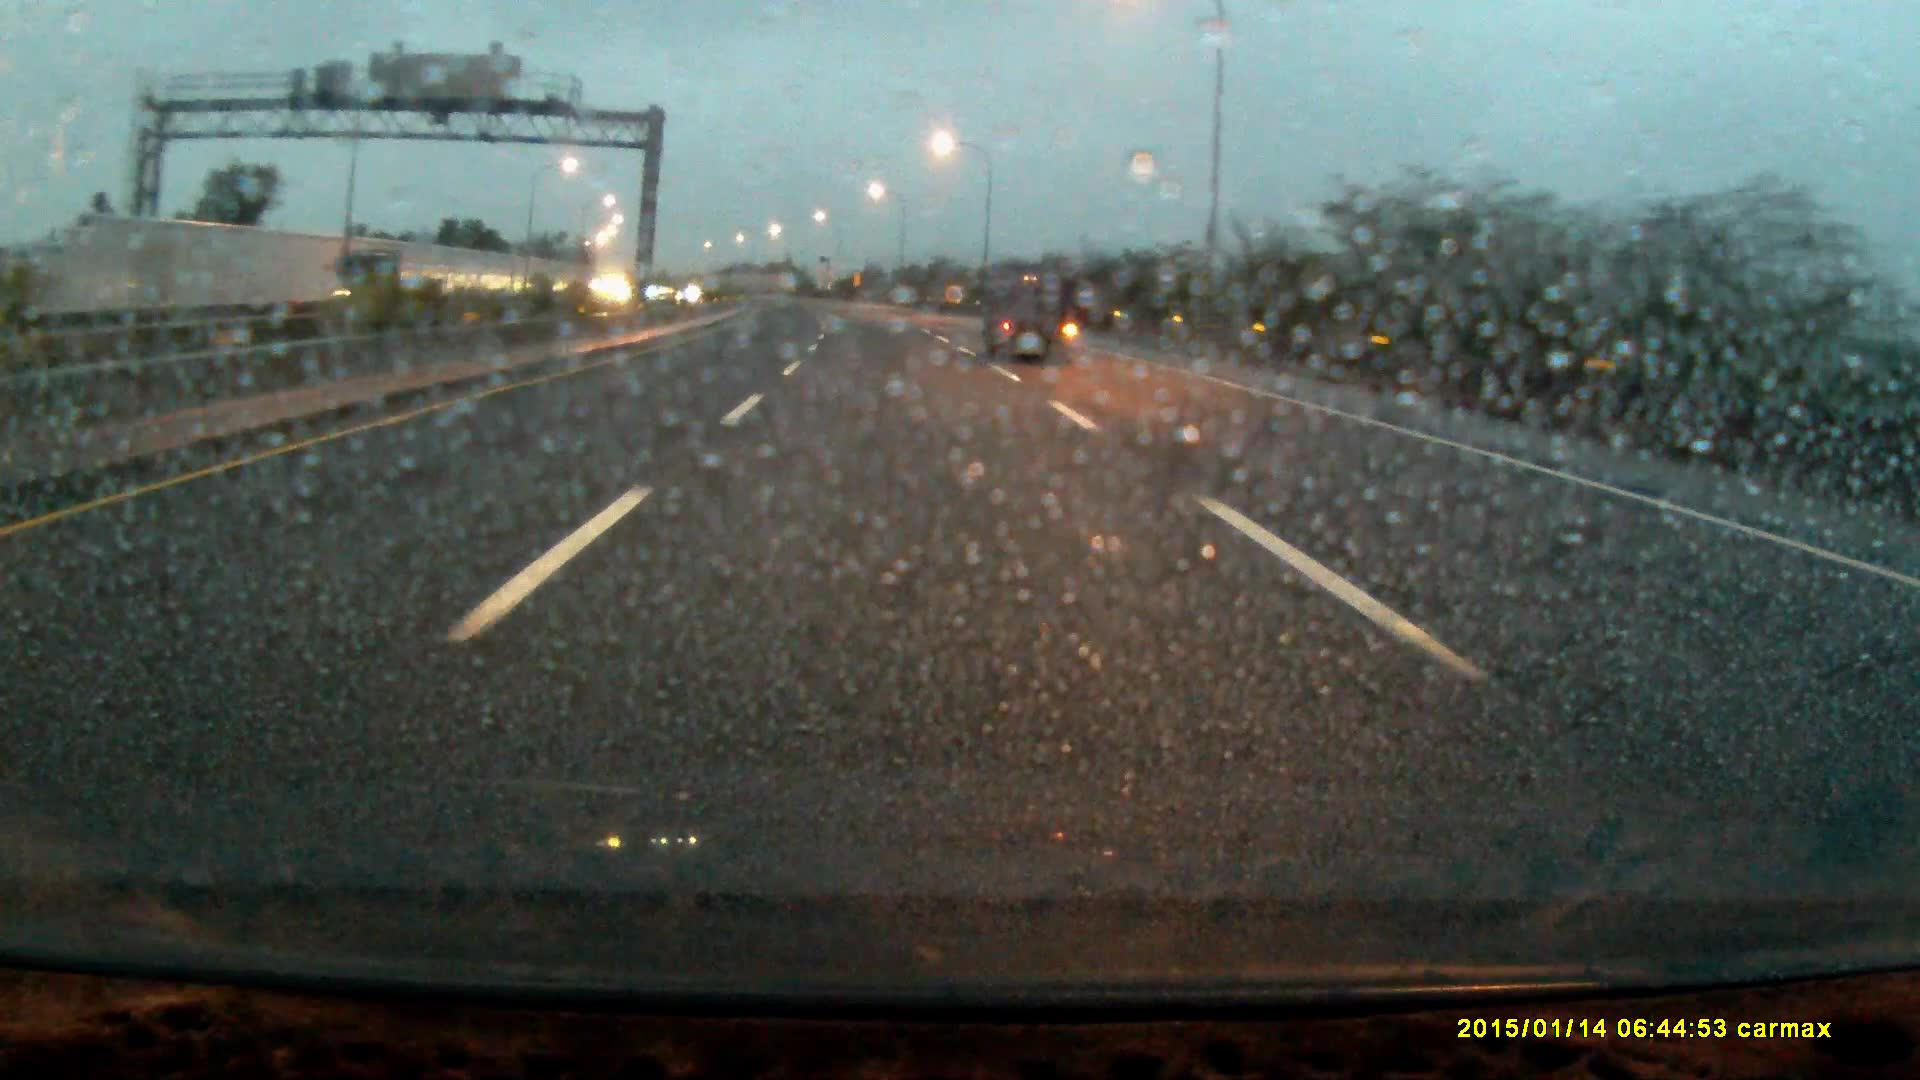vehicle: (328, 248, 454, 320), (988, 272, 1075, 365)
